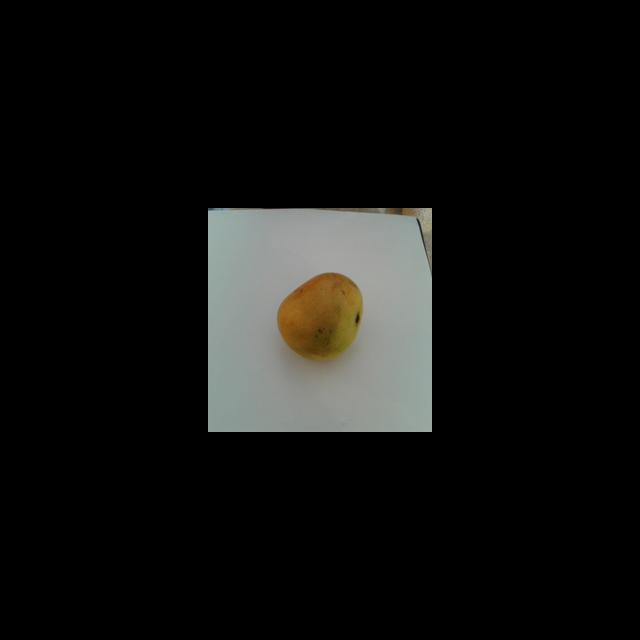Mango: (276, 271, 363, 360)
